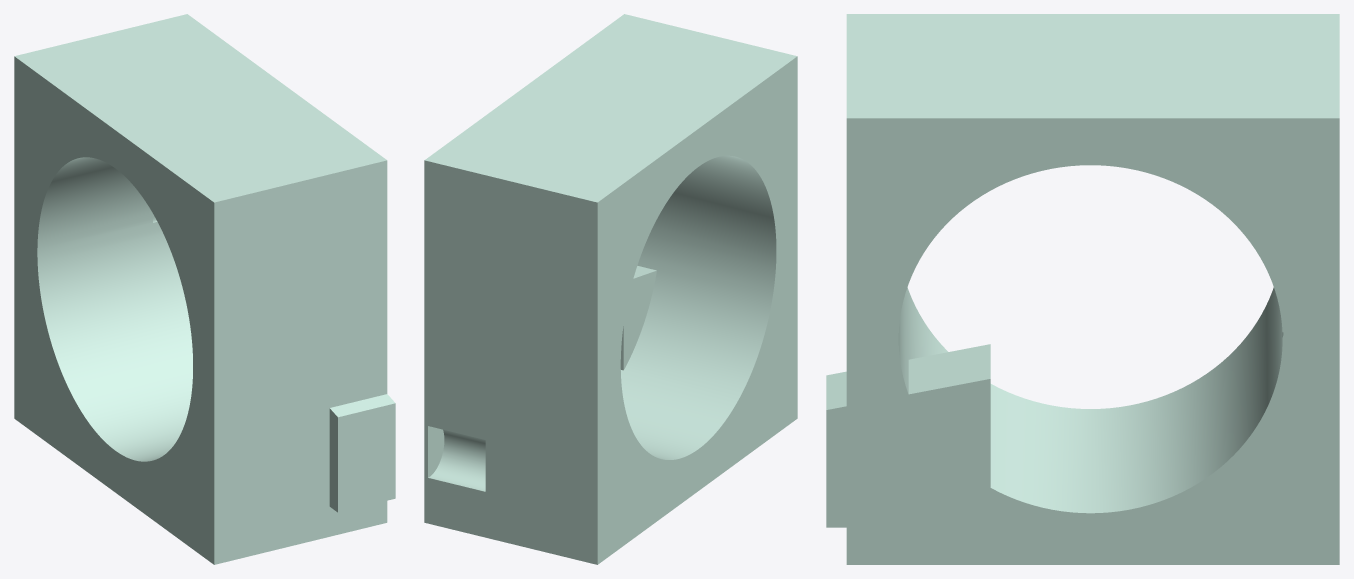
3 renders of one model, left to right at view 1: azimuth 30°, elevation 25°; view 2: azimuth 150°, elevation 25°; view 3: azimuth 270°, elevation 25°, orthographic. The views are drawn at different scales.
Visible parts, largest first — view 1: Renderer Node; view 2: Renderer Node; view 3: Renderer Node.
Part boxes in pixels (<box>): Renderer Node: <box>14,14,395,564</box>; Renderer Node: <box>424,14,797,564</box>; Renderer Node: <box>826,14,1339,564</box>.
Bounding box in the file's own units: 0.75 × 1.5 × 1.56.
